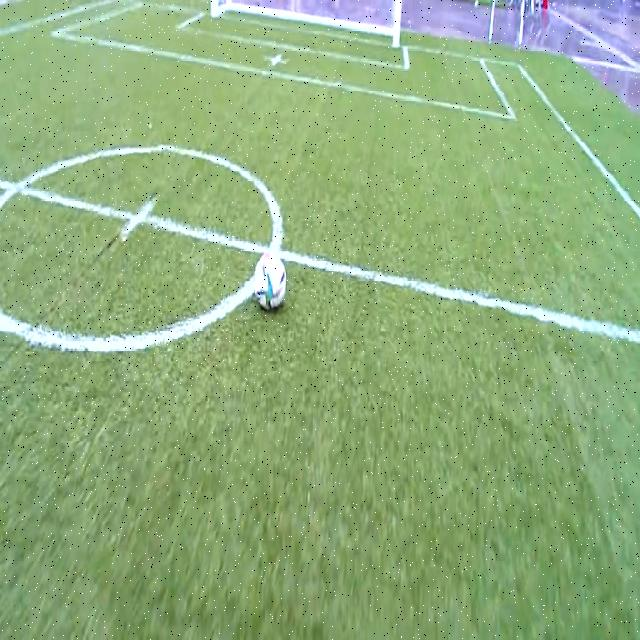ball: (254, 252, 286, 310)
